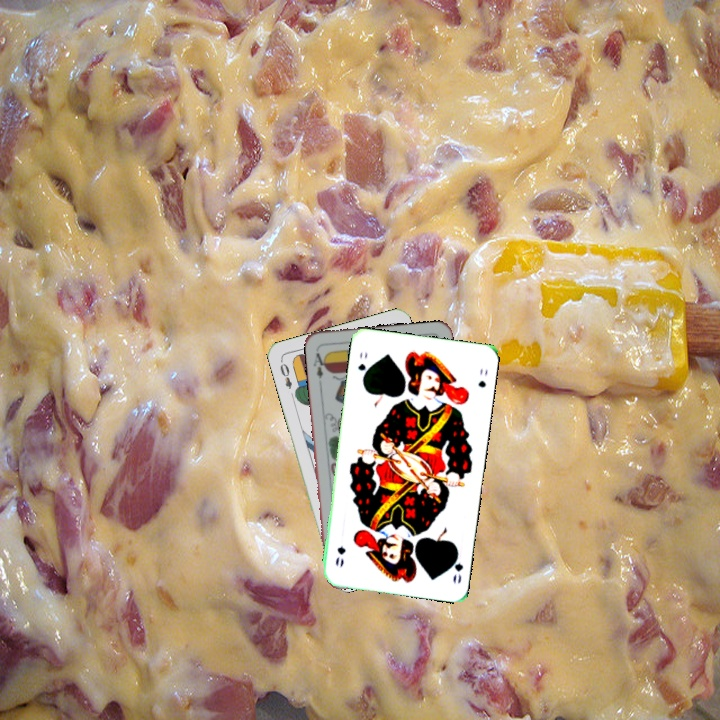EA: (309, 349, 330, 381)
EO: (276, 356, 295, 391)
GO: (446, 545, 466, 586), (354, 348, 371, 384)
